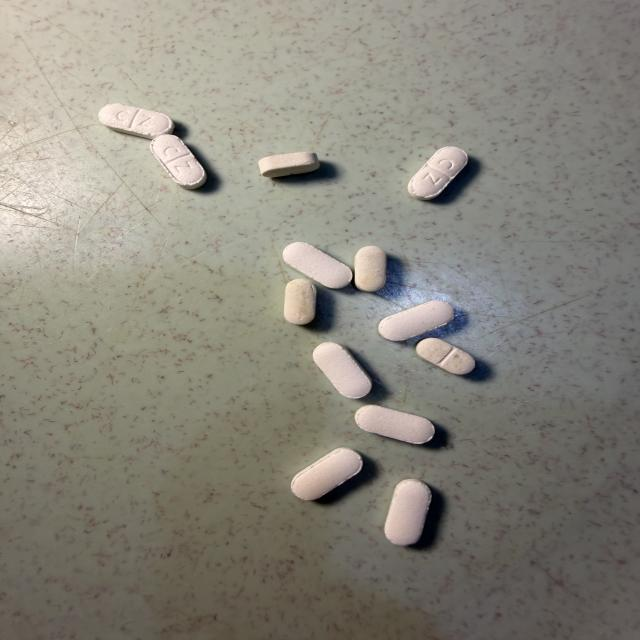pill: (292, 448, 362, 500), (313, 342, 372, 399), (283, 242, 352, 289), (408, 147, 467, 200), (355, 405, 434, 444), (378, 301, 454, 341), (385, 479, 431, 545), (151, 135, 206, 189), (99, 104, 174, 138), (417, 338, 475, 374), (259, 152, 319, 177), (354, 246, 386, 292), (284, 279, 316, 324)
